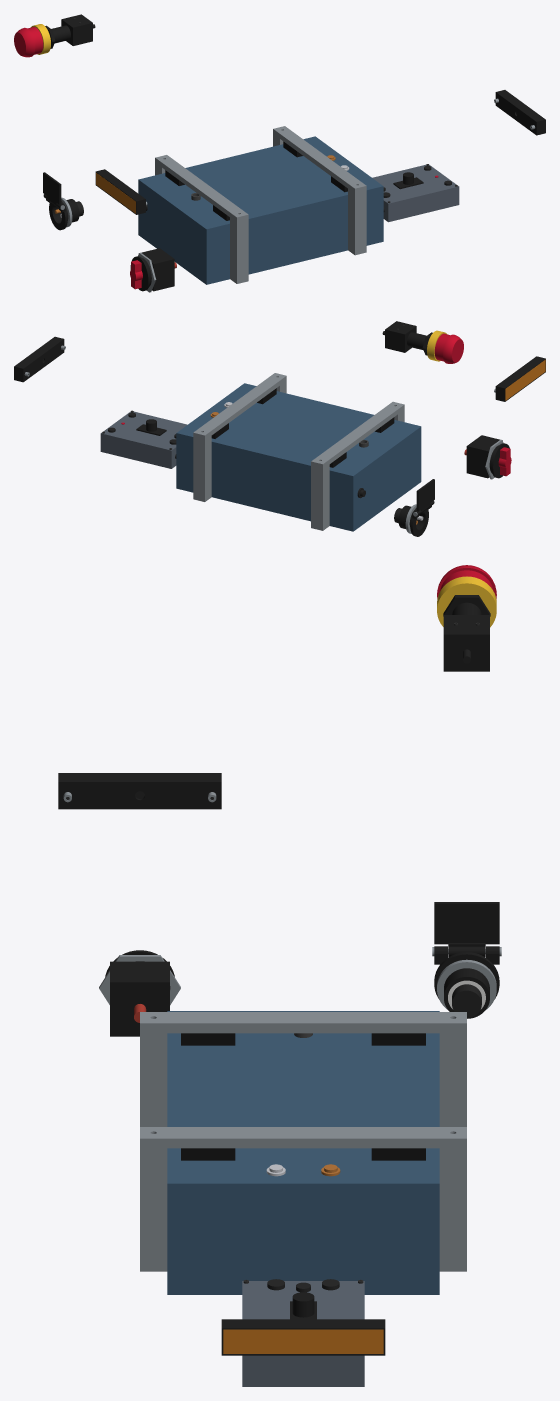
File: group_power.glb
3 renders of one model, top to bottom at view 1: azimuth 30°, elevation 25°; view 2: azimuth 150°, elevation 25°; view 3: azimuth 270°, elevation 25°, orthographic. The views are drawn at different scales.
Visible parts, largest first — view 1: battery_case, battery_case_lid, battery_holddown_1, battery_holddown_0, pdu_lid, pdu_enclosure, lightbar_front_housing, isolator_body, estop_head, estop_contact_block, lightbar_rear_housing, charge_inlet_body (+2 smaller); view 2: battery_case, battery_case_lid, battery_holddown_0, battery_holddown_1, pdu_lid, pdu_enclosure, lightbar_front_housing, isolator_body, estop_head, estop_contact_block, lightbar_rear_housing, charge_inlet_body (+5 smaller); view 3: battery_case_lid, battery_case, battery_holddown_1, battery_holddown_0, lightbar_rear_housing, lightbar_front_lens, pdu_enclosure, pdu_lid, isolator_body, charge_inlet_flap, estop_contact_block, lightbar_front_housing (+2 smaller).
Boxes of the visible parts, x1=… form: battery_case: x1=138, y1=183, x2=383, y2=284; battery_case_lid: x1=138, y1=136, x2=383, y2=232; battery_holddown_1: x1=273, y1=126, x2=366, y2=255; battery_holddown_0: x1=155, y1=155, x2=248, y2=283; pdu_lid: x1=372, y1=164, x2=459, y2=205; pdu_enclosure: x1=383, y1=188, x2=459, y2=222; lightbar_front_housing: x1=495, y1=90, x2=545, y2=135; isolator_body: x1=138, y1=248, x2=174, y2=291; estop_head: x1=14, y1=27, x2=43, y2=57; estop_contact_block: x1=61, y1=14, x2=92, y2=45; lightbar_rear_housing: x1=95, y1=169, x2=145, y2=214; charge_inlet_body: x1=43, y1=194, x2=79, y2=230; battery_case: x1=176, y1=430, x2=421, y2=531; battery_case_lid: x1=176, y1=383, x2=421, y2=479; battery_holddown_0: x1=311, y1=401, x2=404, y2=530; battery_holddown_1: x1=193, y1=373, x2=286, y2=501; pdu_lid: x1=100, y1=411, x2=187, y2=451; pdu_enclosure: x1=100, y1=435, x2=176, y2=468; lightbar_front_housing: x1=14, y1=336, x2=64, y2=382; isolator_body: x1=466, y1=435, x2=502, y2=478; estop_head: x1=434, y1=333, x2=463, y2=363; estop_contact_block: x1=385, y1=321, x2=416, y2=352; lightbar_rear_housing: x1=495, y1=356, x2=545, y2=401; charge_inlet_body: x1=398, y1=501, x2=434, y2=536; battery_case_lid: x1=167, y1=1011, x2=439, y2=1189; battery_case: x1=167, y1=1190, x2=439, y2=1294; battery_holddown_1: x1=140, y1=1127, x2=466, y2=1271; battery_holddown_0: x1=140, y1=1012, x2=466, y2=1126; lightbar_rear_housing: x1=58, y1=773, x2=221, y2=809; lightbar_front_lens: x1=223, y1=1329, x2=383, y2=1353; pdu_enclosure: x1=242, y1=1355, x2=364, y2=1386; pdu_lid: x1=242, y1=1281, x2=364, y2=1319; isolator_body: x1=110, y1=961, x2=169, y2=1036; charge_inlet_flap: x1=434, y1=902, x2=499, y2=956; estop_contact_block: x1=443, y1=615, x2=489, y2=671; lightbar_front_housing: x1=221, y1=1319, x2=385, y2=1355.
Size of the model in its own units: 788 by 367 by 326.
